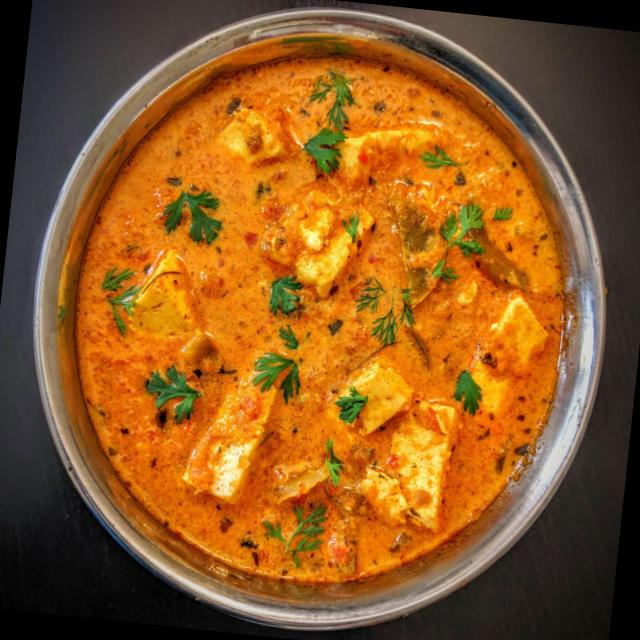ShahiPaneer: (46, 32, 592, 596)
